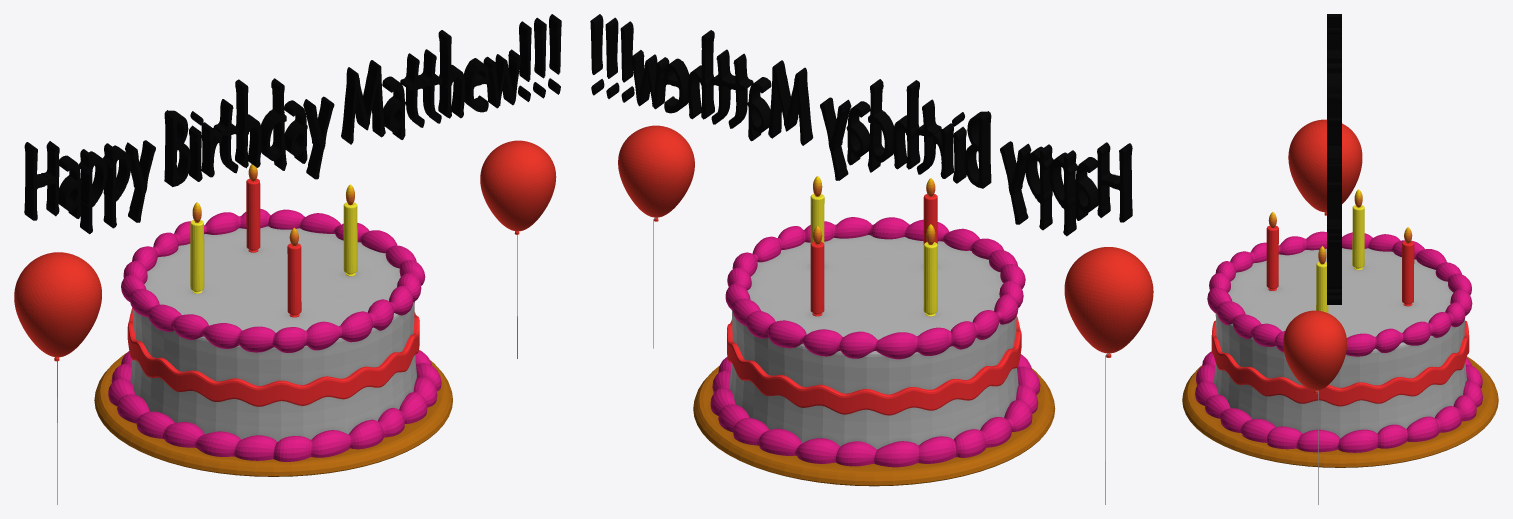
Rendered from MattBirthday.gltf.
The picture shows the model from 3 angles, left to right: view 1: azimuth 30°, elevation 25°; view 2: azimuth 150°, elevation 25°; view 3: azimuth 270°, elevation 25°; orthographic projection. The views are drawn at different scales.
Bounding box in the file's own units: 0.8057 × 0.5299 × 0.4605.
